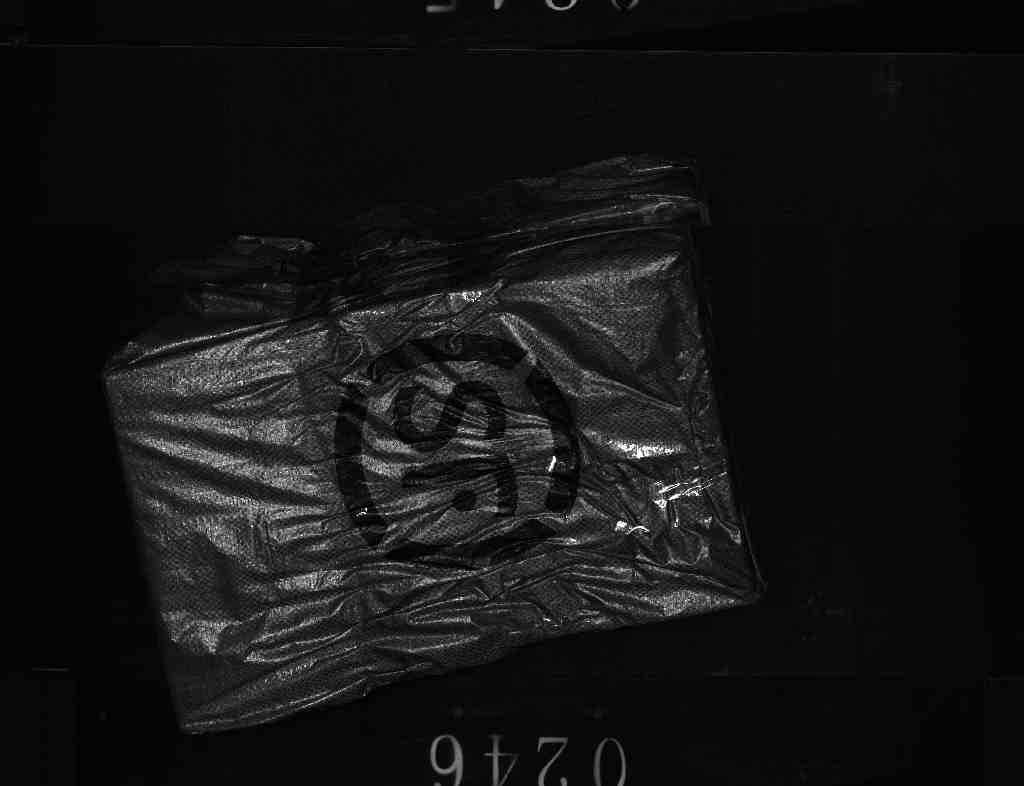box: (108, 164, 782, 737)
